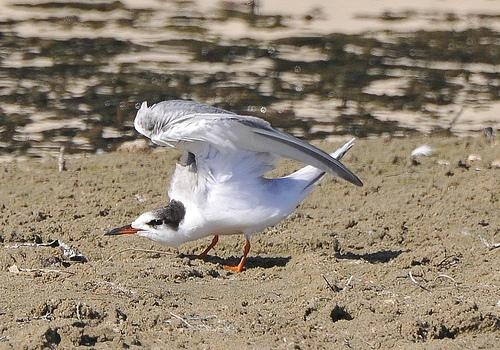bird: (98, 98, 363, 272)
